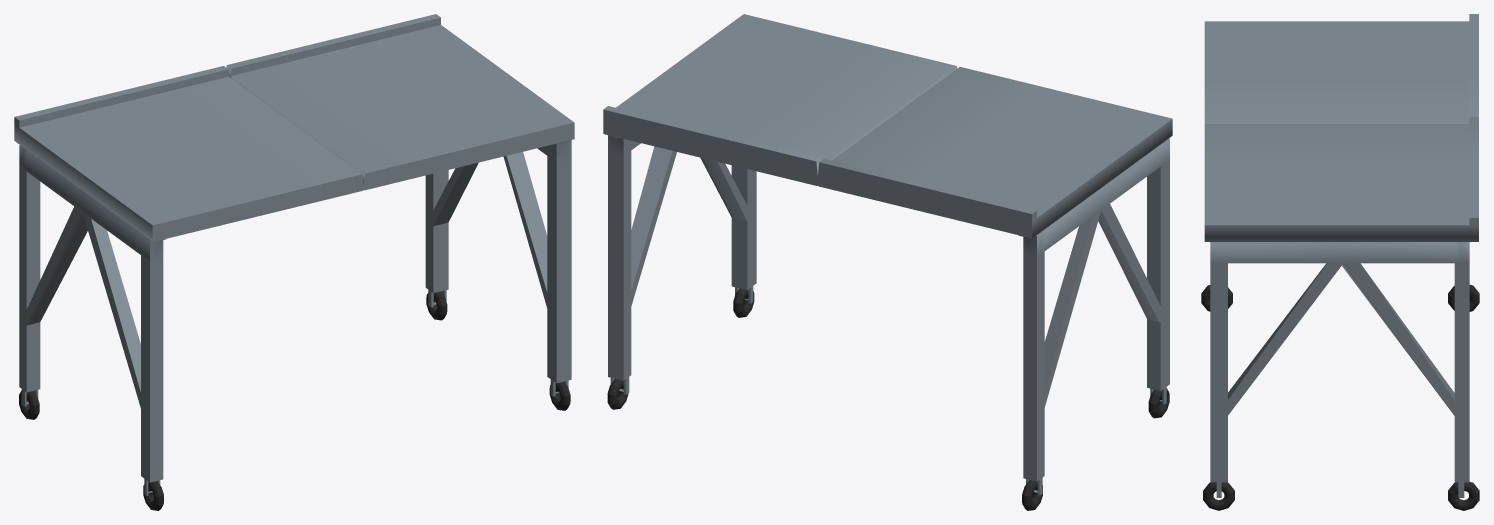
Rendered from table.fbx.
3 views of the same model, side by side, from view 1: azimuth 30°, elevation 25°; view 2: azimuth 150°, elevation 25°; view 3: azimuth 270°, elevation 25° (orthographic). The views are drawn at different scales.
Visible parts, largest first — view 1: pTorus5; view 2: pTorus5; view 3: pTorus5.
Boxes of the visible parts, left/top/right/bottom form: pTorus5: left=14, top=14, right=574, bottom=510; pTorus5: left=603, top=14, right=1172, bottom=510; pTorus5: left=1201, top=14, right=1479, bottom=510.
Size of the model in its own units: 2 by 1.35 by 1.15.
